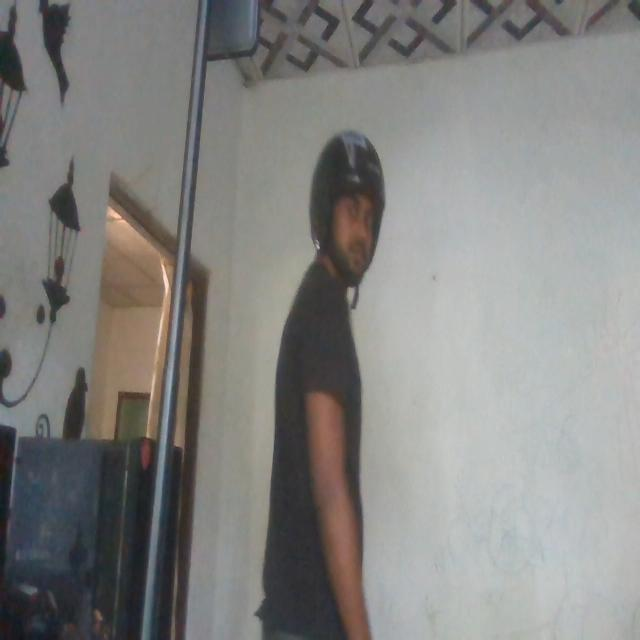Helmet_Wearer: (303, 121, 381, 299)
Person: (258, 121, 416, 640)
